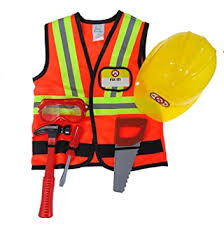Helmet: (140, 37, 221, 123)
Jacket: (29, 19, 167, 174)
